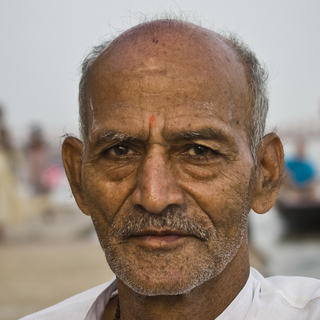eye: (179, 140, 226, 164), (99, 138, 142, 163)
